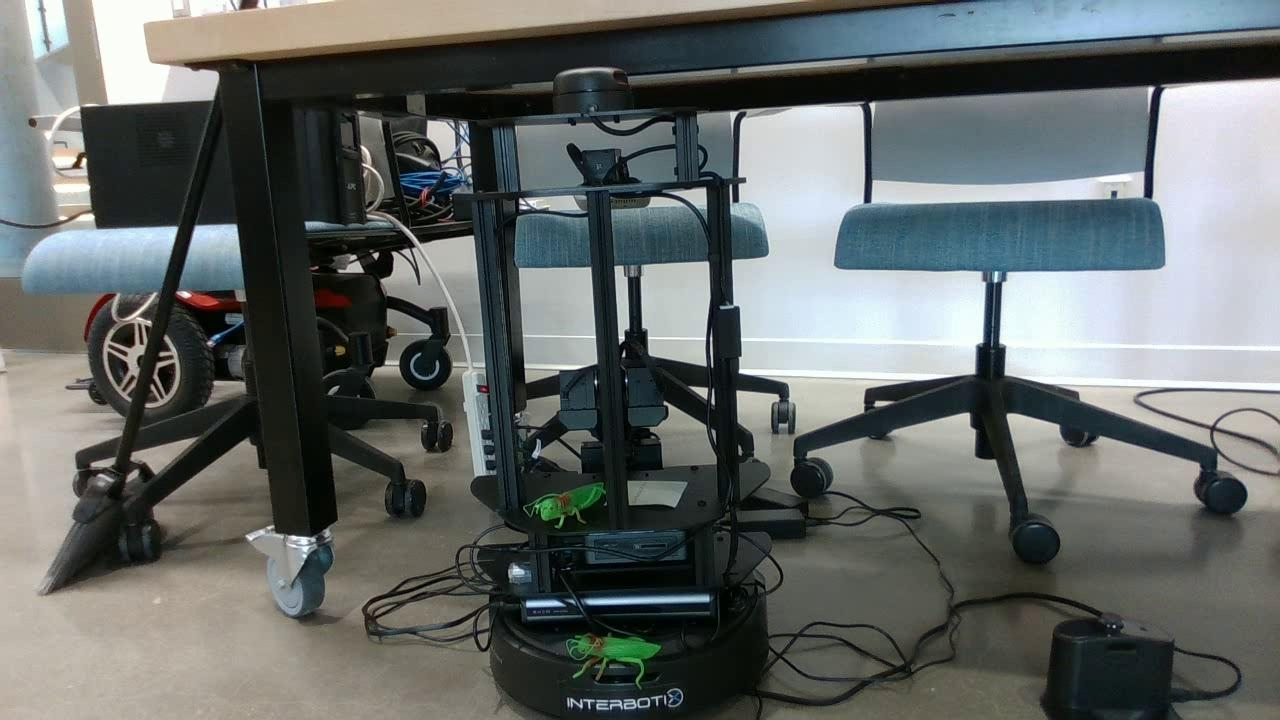grasshopper: (574, 634, 659, 687), (537, 481, 606, 526)
